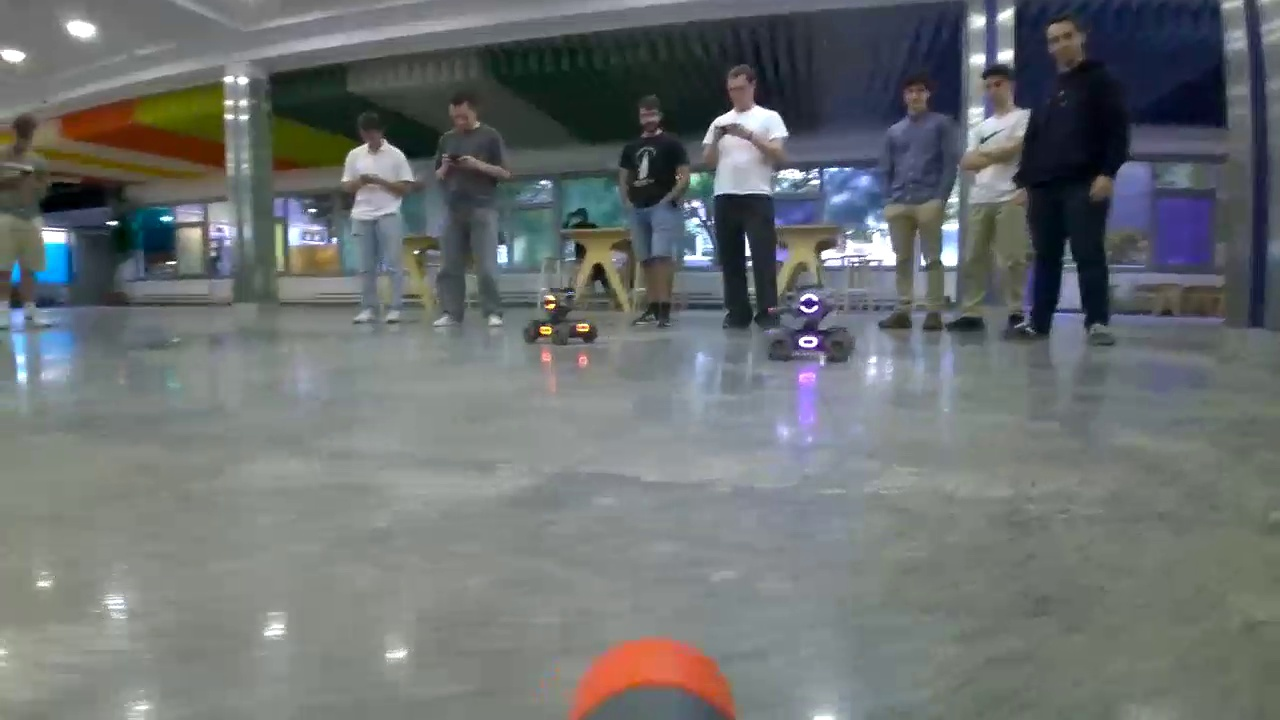robot: (758, 289, 858, 360), (525, 290, 598, 343)
